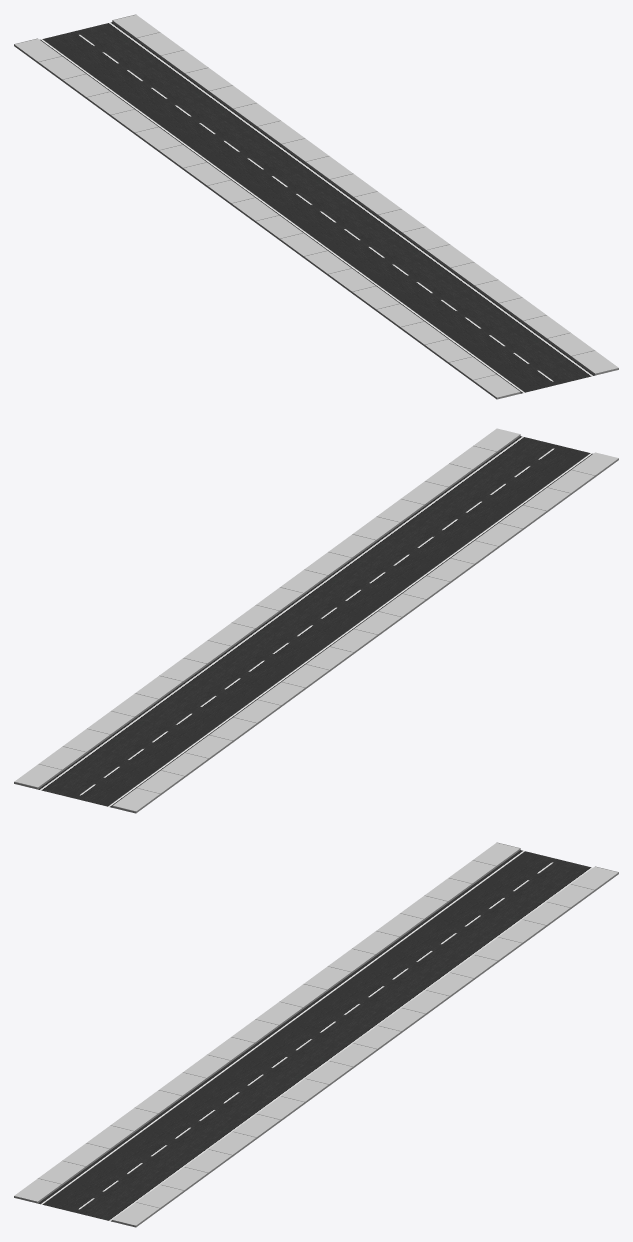
The model's file is RoadMesh2.fbx.
3 renders of one model, top to bottom at view 1: azimuth 30°, elevation 25°; view 2: azimuth 150°, elevation 25°; view 3: azimuth 330°, elevation 25°, orthographic.
Parts seen in each view (by area): view 1: Road3; view 2: Road3; view 3: Road3.
Part boxes in pixels (left/top/right/bottom): Road3: left=14, top=14, right=618, bottom=399; Road3: left=14, top=428, right=618, bottom=813; Road3: left=14, top=842, right=618, bottom=1227.
Size of the model in its own units: 175 by 2.6 by 1200.
Materials: 1 (1 with a texture image).
